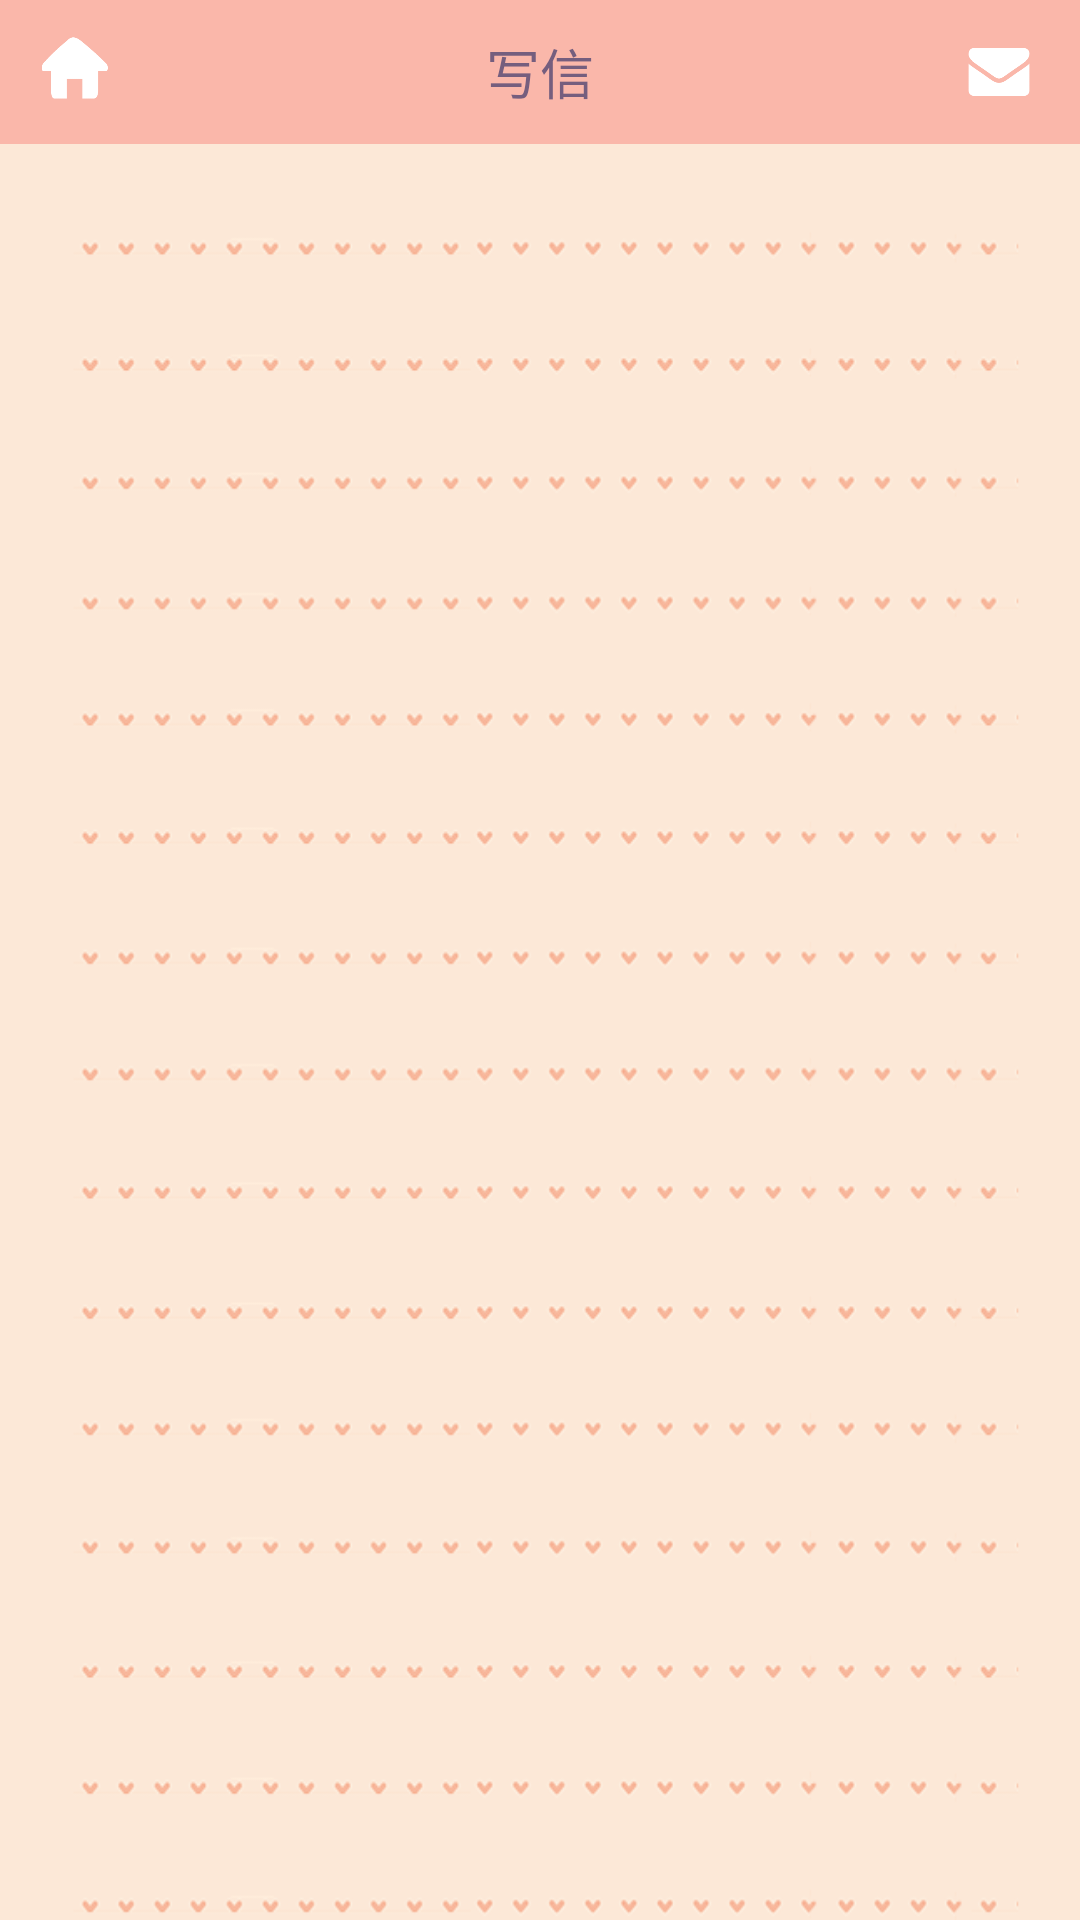

Screen size 1080x1920. Icon name, then its center in pixels as [x,y]:
发送: [999,72]
